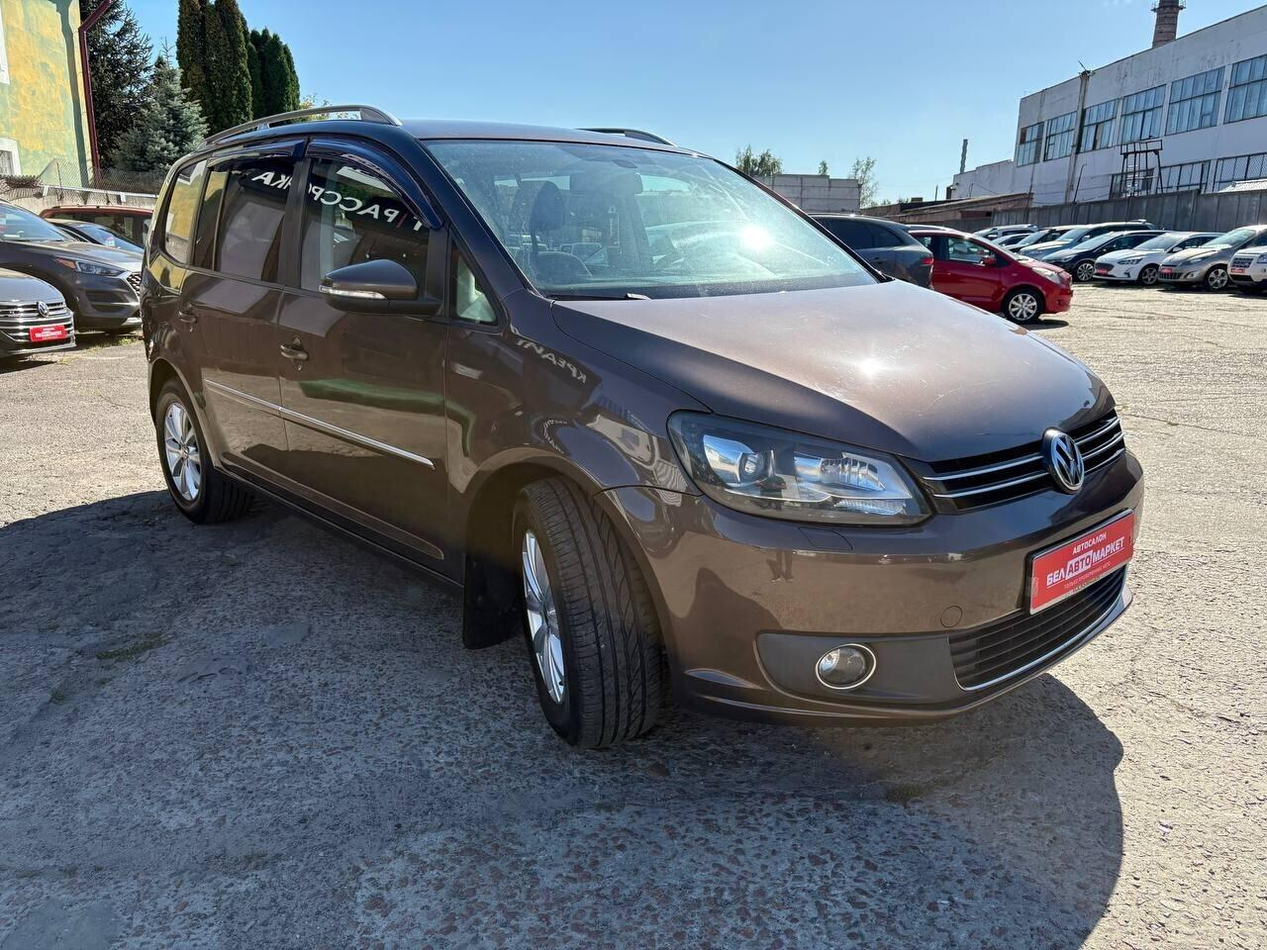Touran_2010-2015: (131, 110, 1156, 751)
